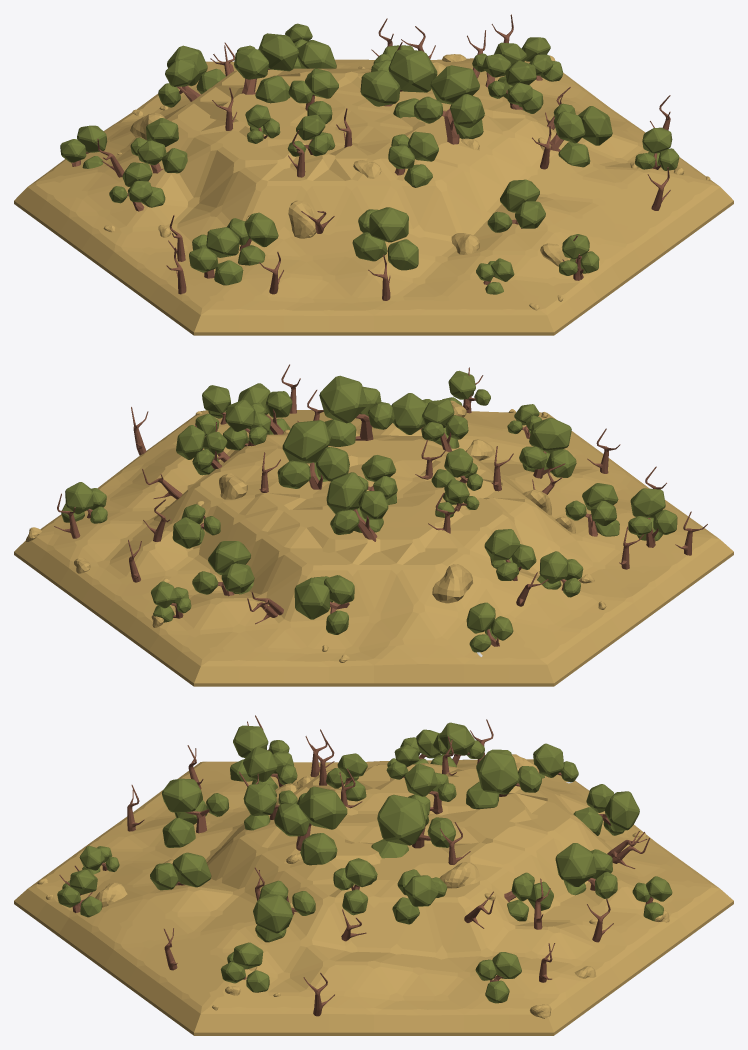
Rendered from shrubland.glb.
3 views of the same model, one above another, from view 1: azimuth 30°, elevation 25°; view 2: azimuth 150°, elevation 25°; view 3: azimuth 270°, elevation 25° (orthographic).
Visible parts, largest first — view 1: shrubland; view 2: shrubland; view 3: shrubland.
Part boxes in pixels (box(x1,y1,x2,y2)): shrubland: box(14, 14, 733, 335); shrubland: box(14, 364, 733, 686); shrubland: box(14, 715, 733, 1035).
Size of the model in its own units: 1.73 by 0.4323 by 2.
